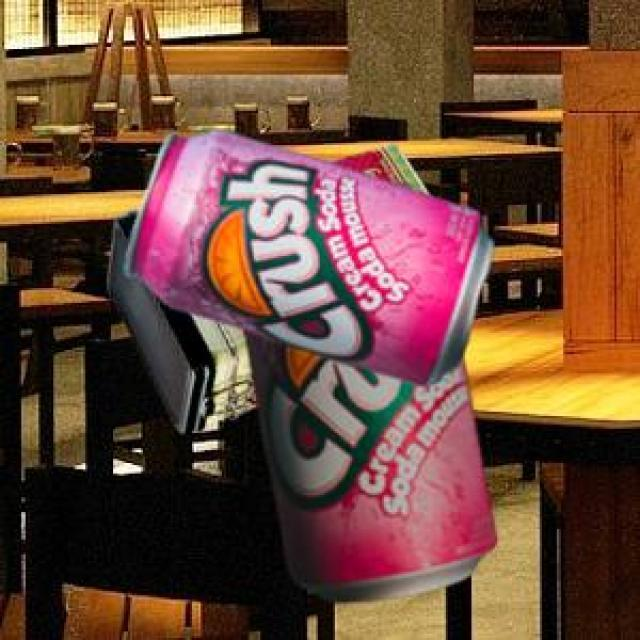Can: (123, 129, 490, 383), (106, 142, 425, 430), (243, 325, 494, 598)
